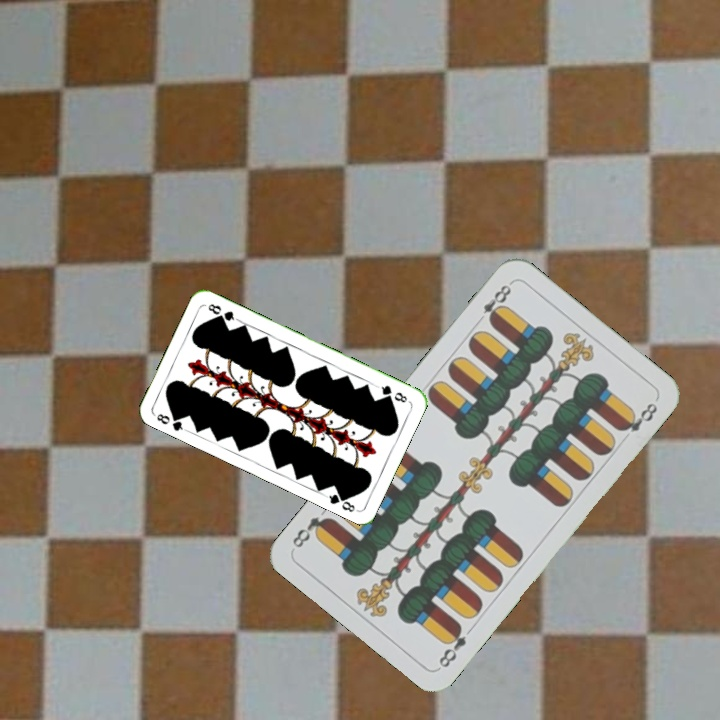E8: (472, 278, 515, 327), (434, 620, 469, 671)
G8: (151, 409, 189, 434), (373, 381, 410, 405)
